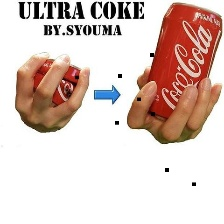can: (141, 0, 224, 122), (24, 53, 89, 114)
